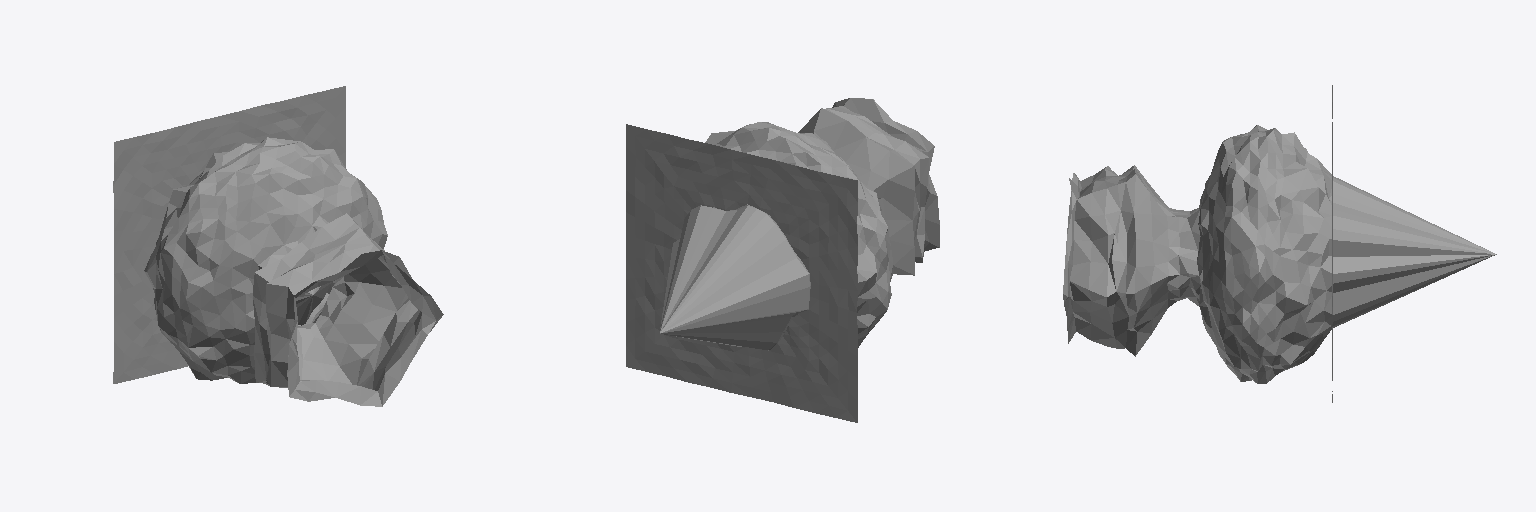
File: landscape_main.obj
3 views of the same model, side by side, from view 1: azimuth 30°, elevation 25°; view 2: azimuth 150°, elevation 25°; view 3: azimuth 270°, elevation 25° (orthographic).
Parts seen in each view (by area): view 1: g_rockwall, g_water, g_moonglow; view 2: g_water, g_rockwall; view 3: g_rockwall.
Boxes of the visible parts, x1=… form: g_rockwall: x1=144, y1=137, x2=443, y2=406; g_water: x1=113, y1=86, x2=345, y2=383; g_moonglow: x1=295, y1=282, x2=331, y2=325; g_water: x1=626, y1=124, x2=857, y2=422; g_rockwall: x1=660, y1=98, x2=939, y2=350; g_rockwall: x1=1063, y1=125, x2=1496, y2=383.
Size of the model in its own units: 32517 by 33023 by 52543.